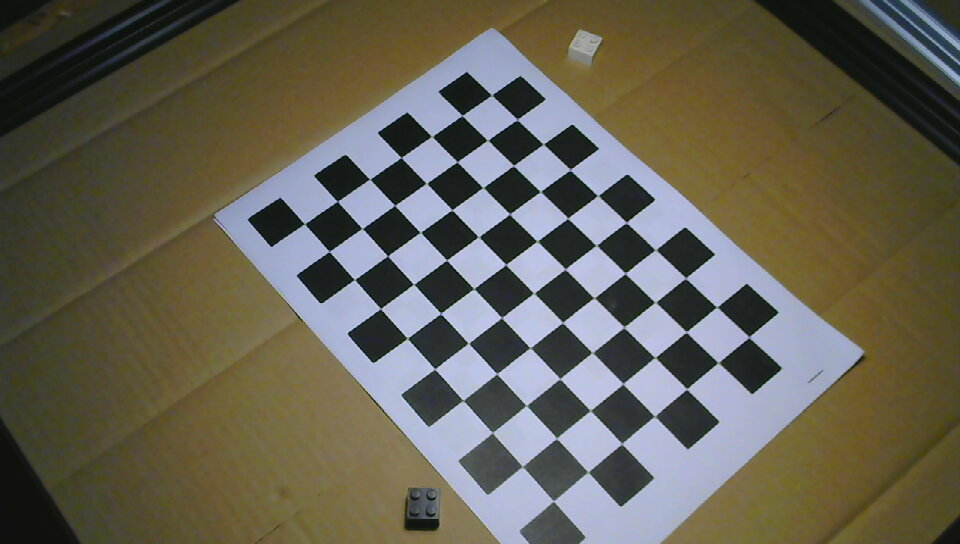bp: (405, 486, 441, 528)
wp: (568, 28, 603, 65)
